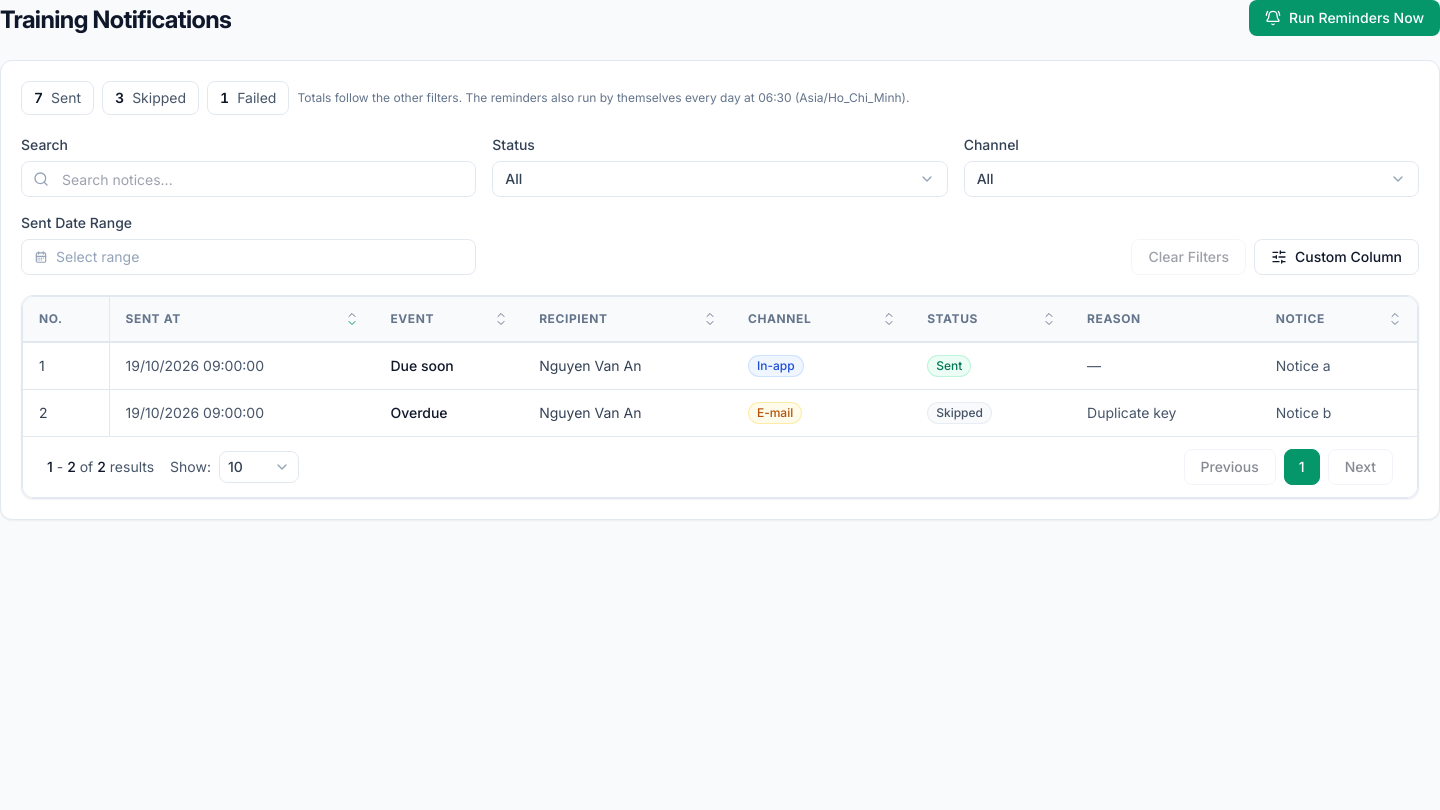
Test: TrainingNotificationsView › says the run failed instead of pretending it worked
This screenshot has width=1440, height=810.
Expected: the text "Due soon" is shown, [390, 357, 454, 374]
Click the button "Run Reminders Now" at (1344, 18), box [1249, 0, 1439, 36]
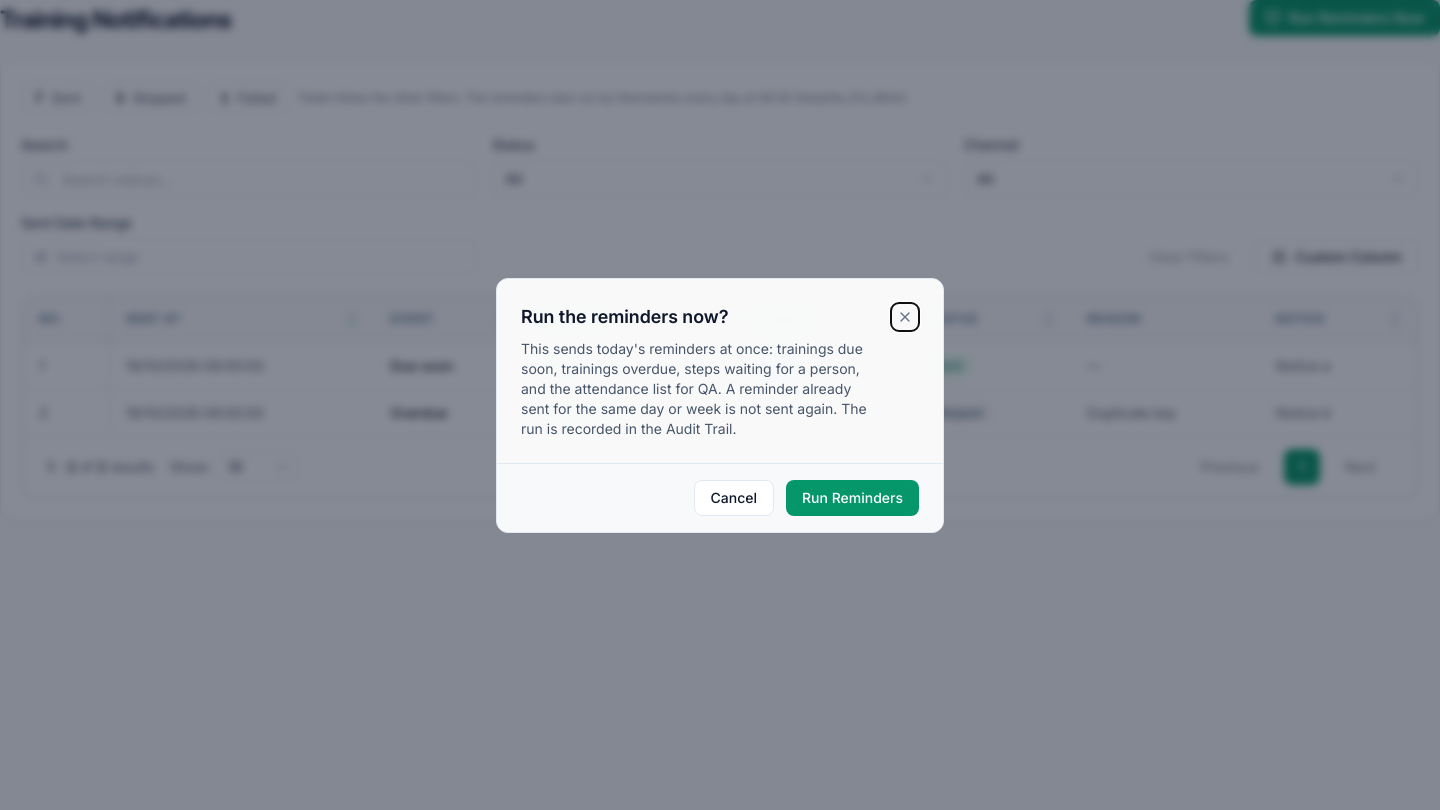
Click the button "Run Reminders" at (852, 498), box [786, 480, 919, 516]
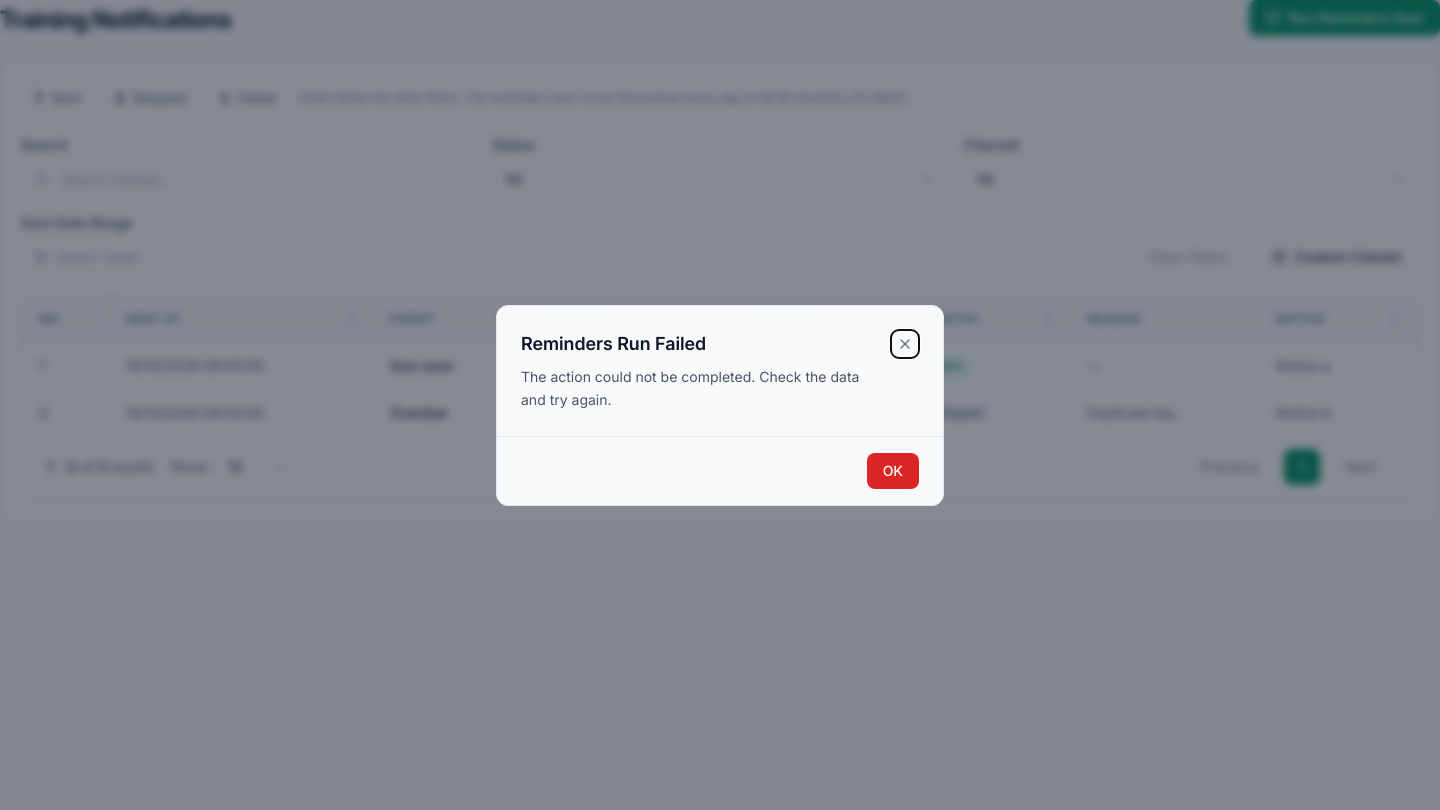
Result: the heading "Reminders Run Failed" is shown at [521, 333, 706, 354]
